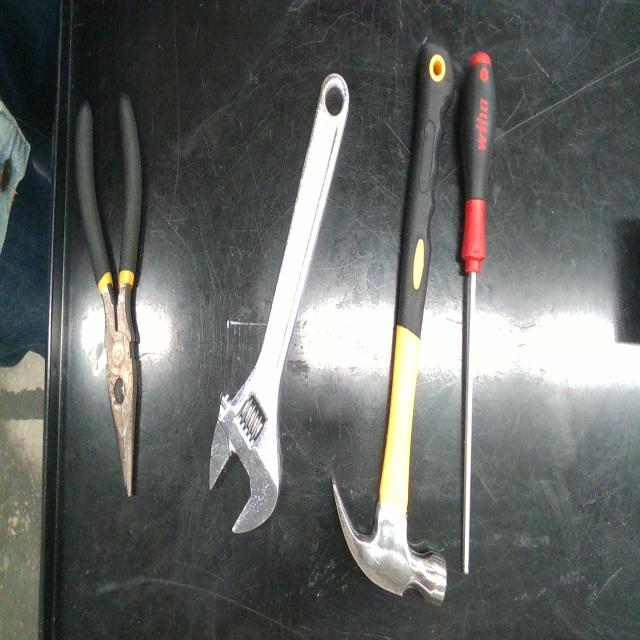Screwdriver: (461, 51, 495, 573)
